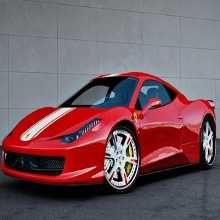no damage: (1, 72, 216, 193)
